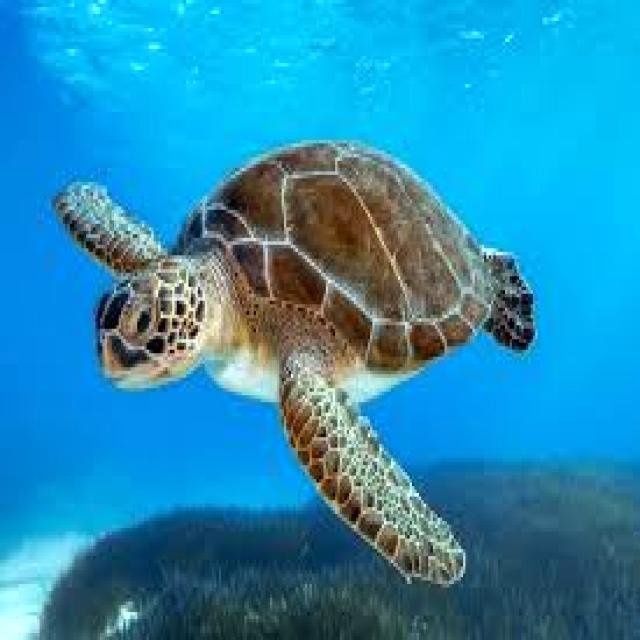Sea turtle: (38, 150, 582, 611)
